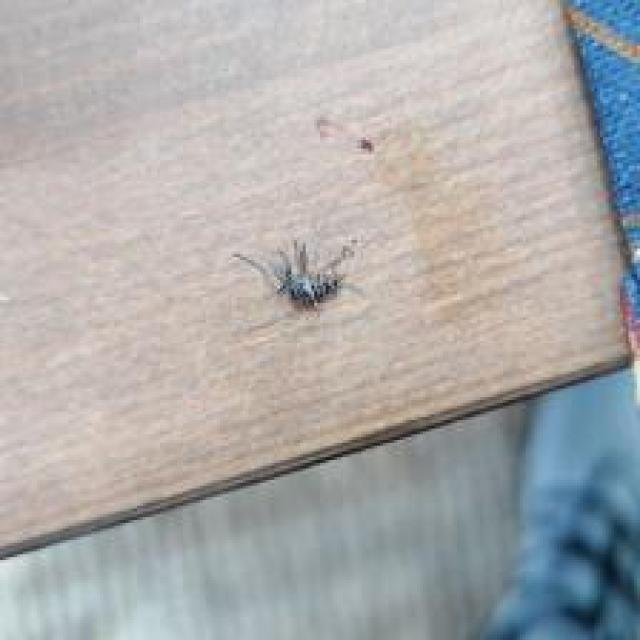Aedes albopictus: (230, 234, 361, 314)
